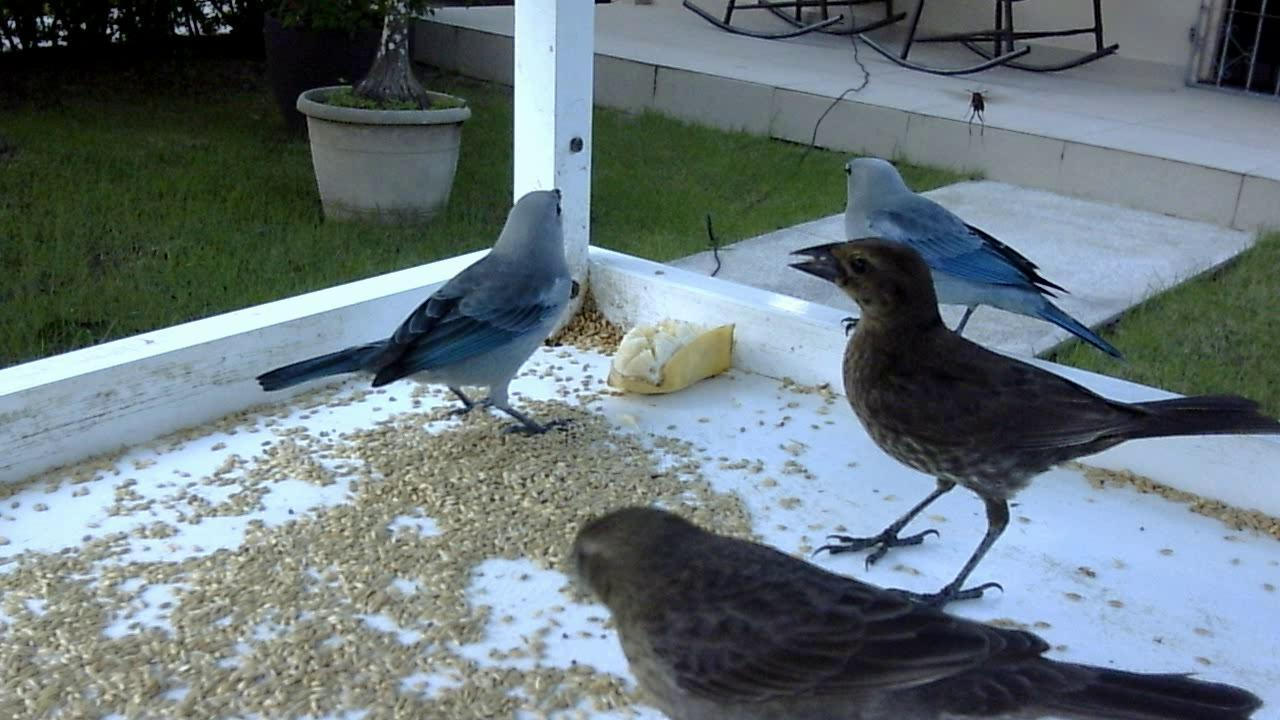chupim: (766, 237, 1267, 620), (559, 508, 1256, 718)
sanhaco_da_amazonia: (260, 193, 584, 444), (821, 154, 1149, 356)
